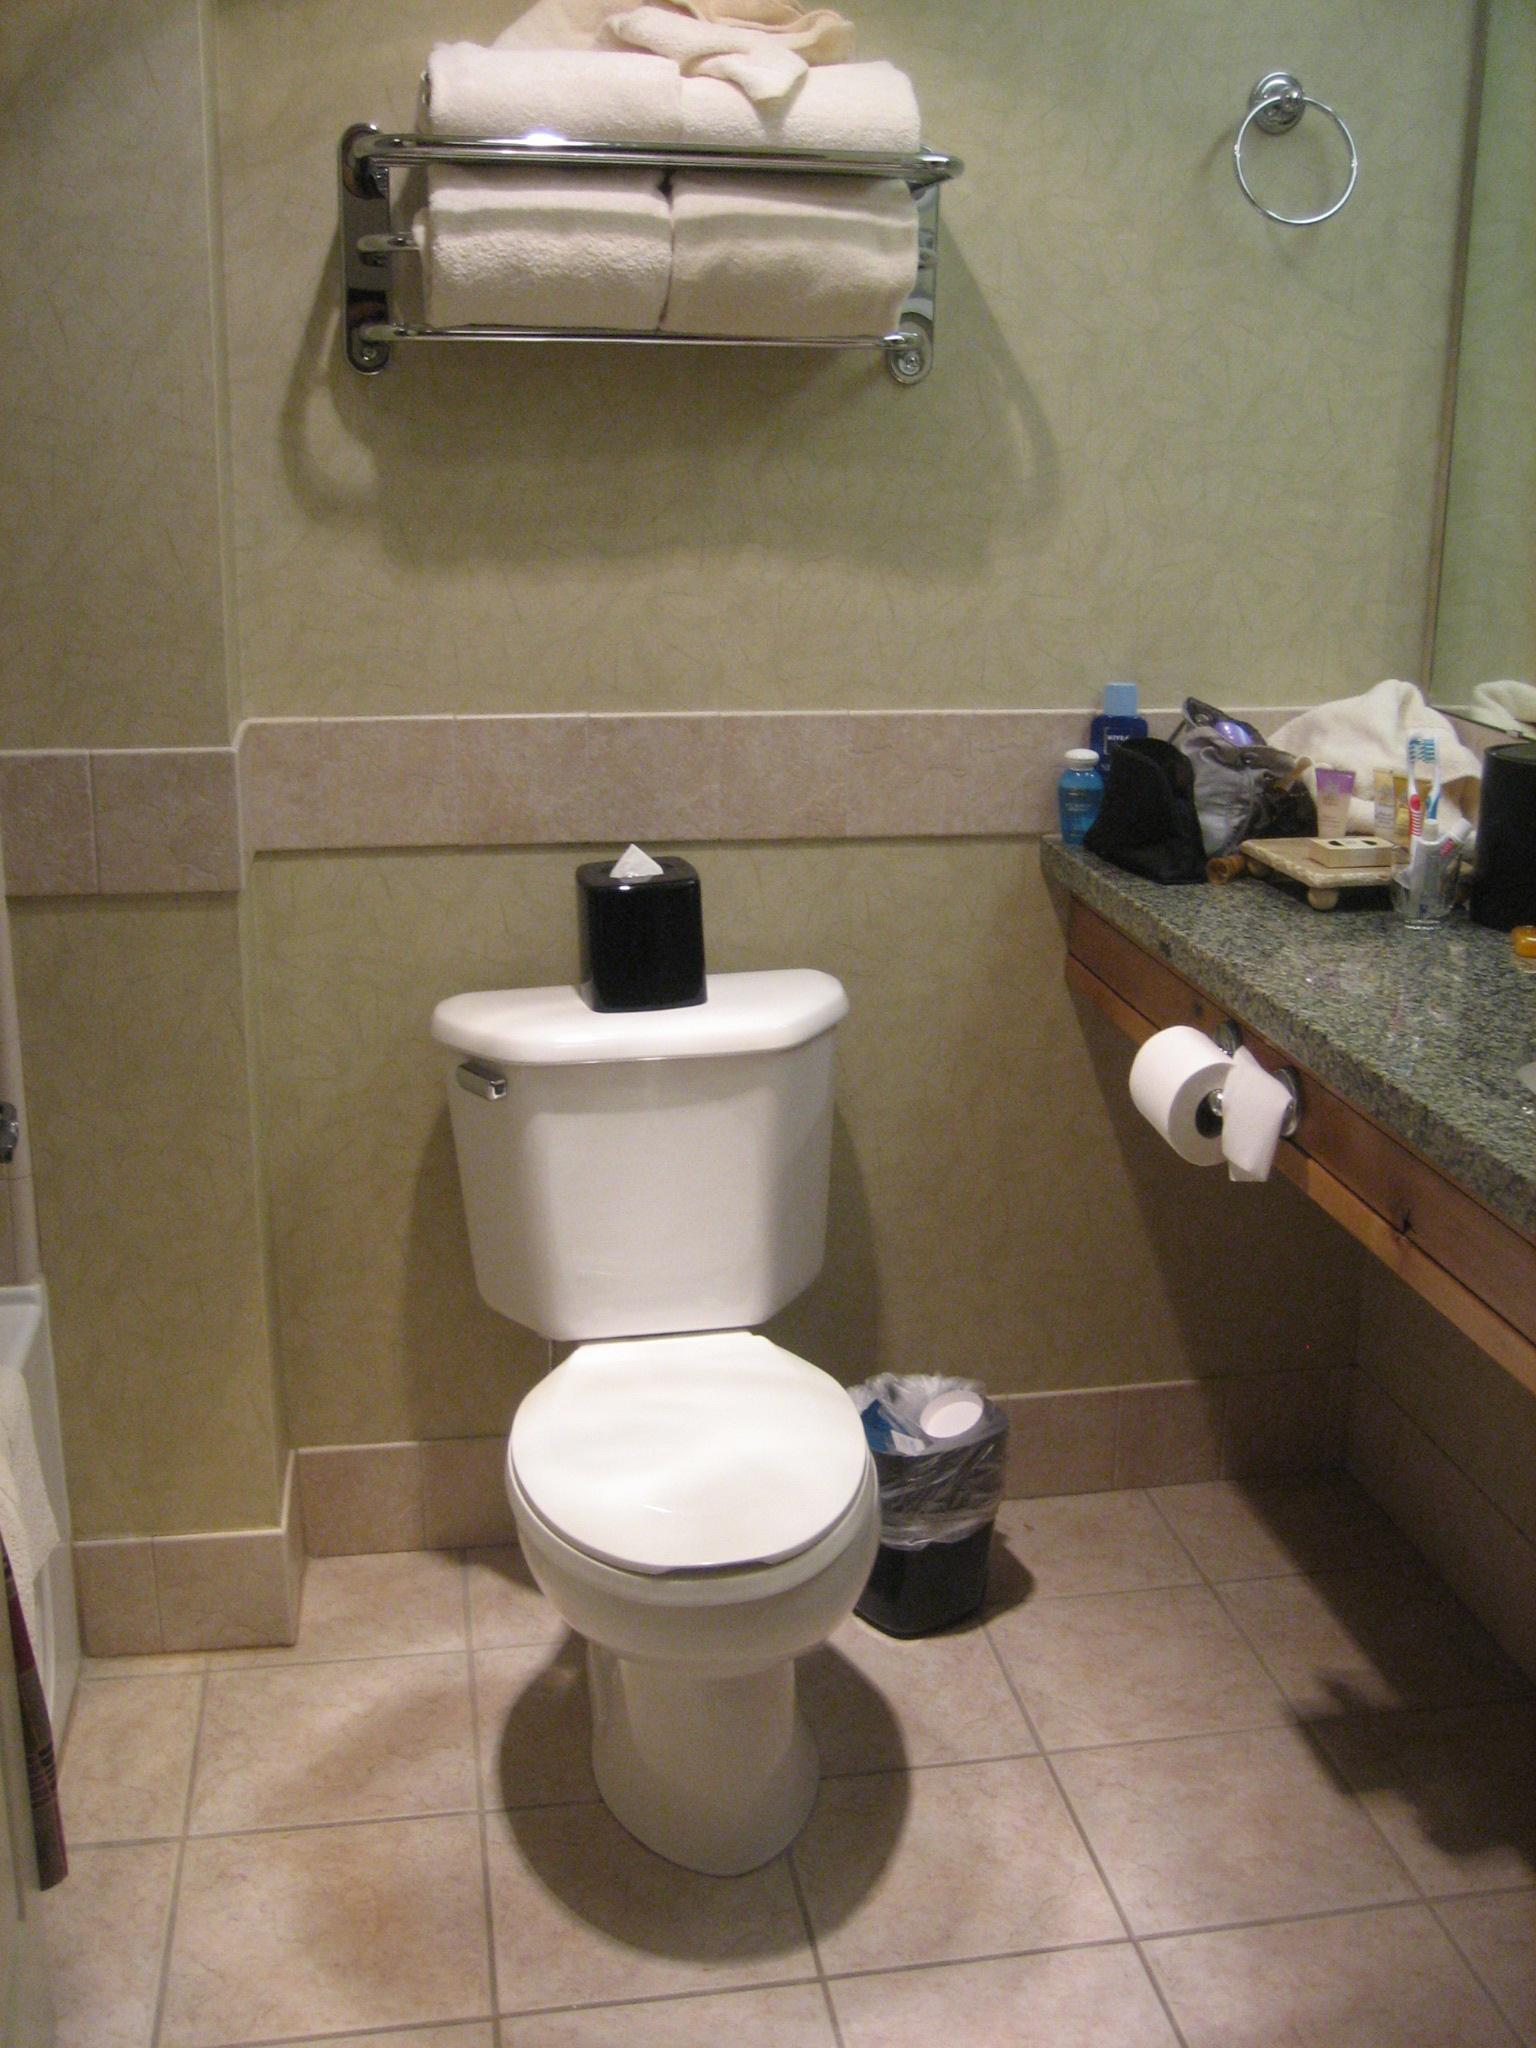Bote de Basura: (833, 1334, 1021, 1630)
Sanitario: (411, 1003, 949, 1930)
